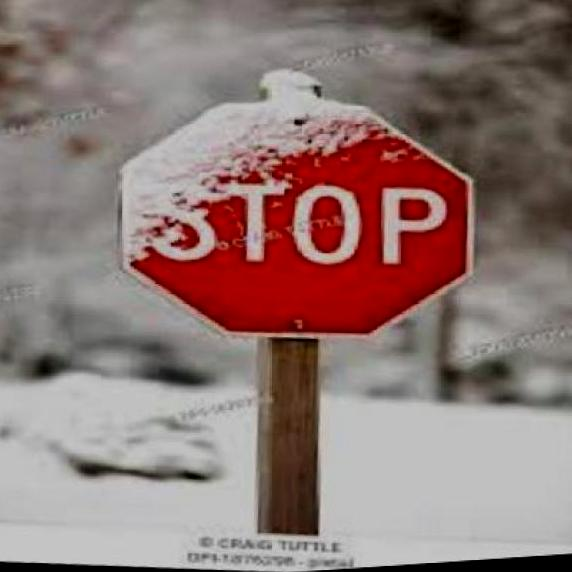stop_sign: (95, 72, 488, 374)
